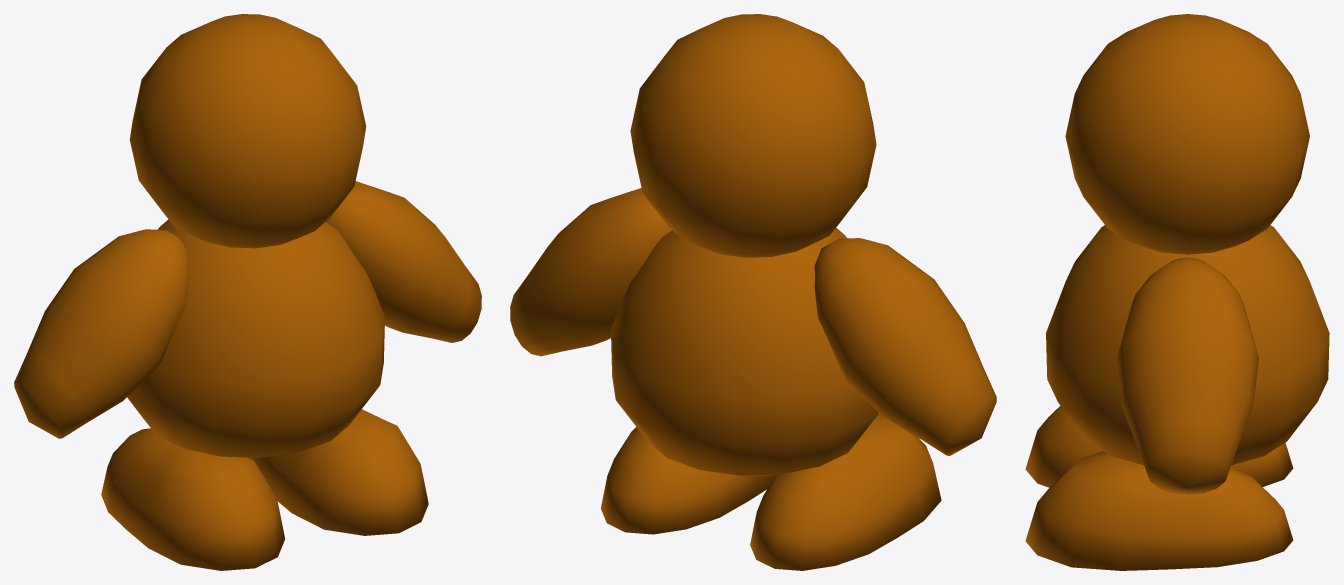
The model's file is character.glb.
The picture shows the model from 3 angles, left to right: view 1: azimuth 30°, elevation 25°; view 2: azimuth 150°, elevation 25°; view 3: azimuth 270°, elevation 25°; orthographic projection. The views are drawn at different scales.
Visible parts, largest first — view 1: Head, Body, Arm, Foot; view 2: Head, Body, Arm, Foot; view 3: Head, Body, Foot, Arm.
Part boxes in pixels (left/top/right/bottom): Head: left=129, top=14, right=366, bottom=248; Body: left=127, top=219, right=384, bottom=457; Arm: left=14, top=181, right=481, bottom=438; Foot: left=101, top=409, right=428, bottom=570; Head: left=630, top=14, right=876, bottom=257; Body: left=611, top=228, right=878, bottom=475; Arm: left=510, top=188, right=996, bottom=455; Foot: left=601, top=413, right=941, bottom=570; Head: left=1065, top=14, right=1309, bottom=254; Body: left=1046, top=225, right=1329, bottom=465; Foot: left=1025, top=406, right=1293, bottom=570; Arm: left=1116, top=257, right=1258, bottom=494.
Size of the model in its own units: 3.74 by 3.73 by 2.14.
